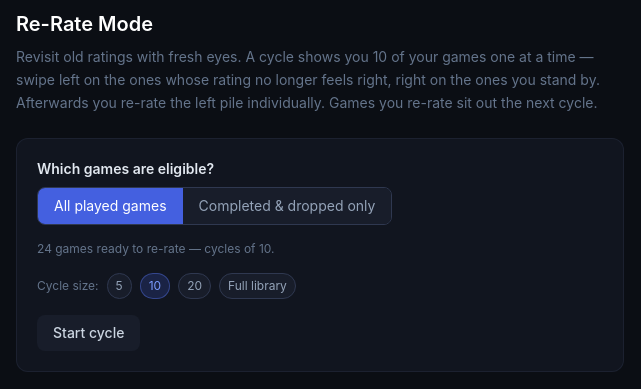
Test: RerateMode — idle screen › eligibility sentences and gating › switches the cycle size, persists it and reflects it in the sentence
The width and height of the screenshot is (641, 389).
Expected: the text "24 games ready to re-rate — cycles of 10." is shown, [37,241,274,256]
Click the button "20" at (195, 286), box [178,273,211,299]
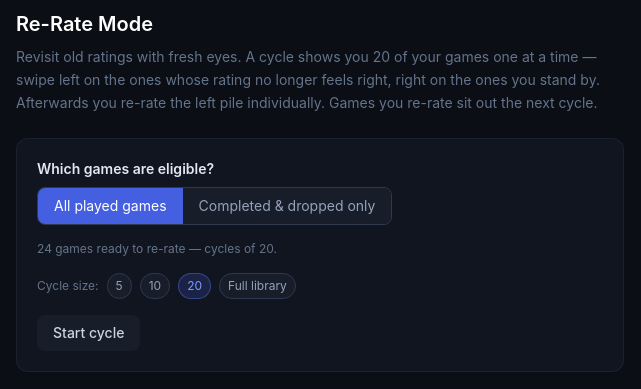
Now the text "24 games ready to re-rate — cycles of 20." is shown, box [37,241,277,256]
Click the button "Full library" at (257, 286), box [219,273,296,299]
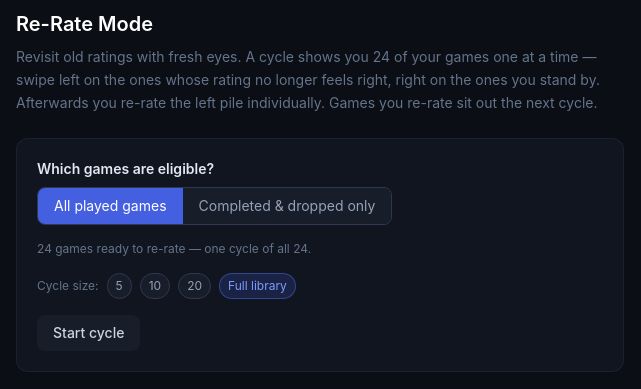
Now the text "24 games ready to re-rate — one cycle of all 24." is shown, box [37,241,311,256]
